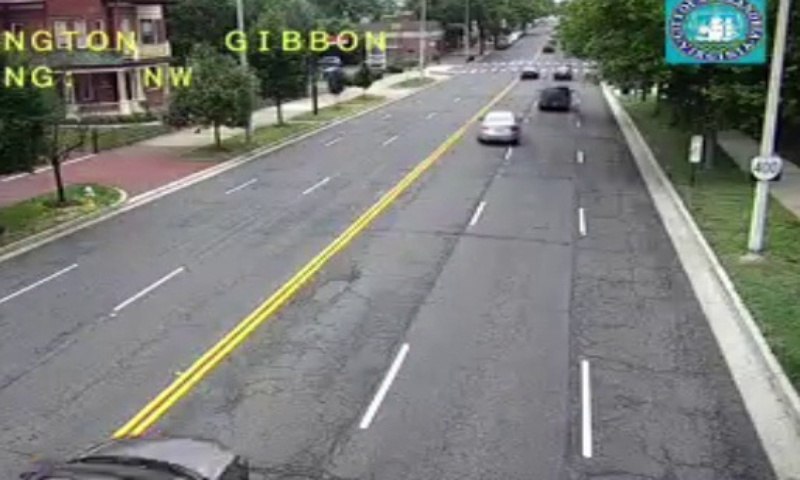car: (477, 111, 521, 142), (538, 86, 571, 113)
